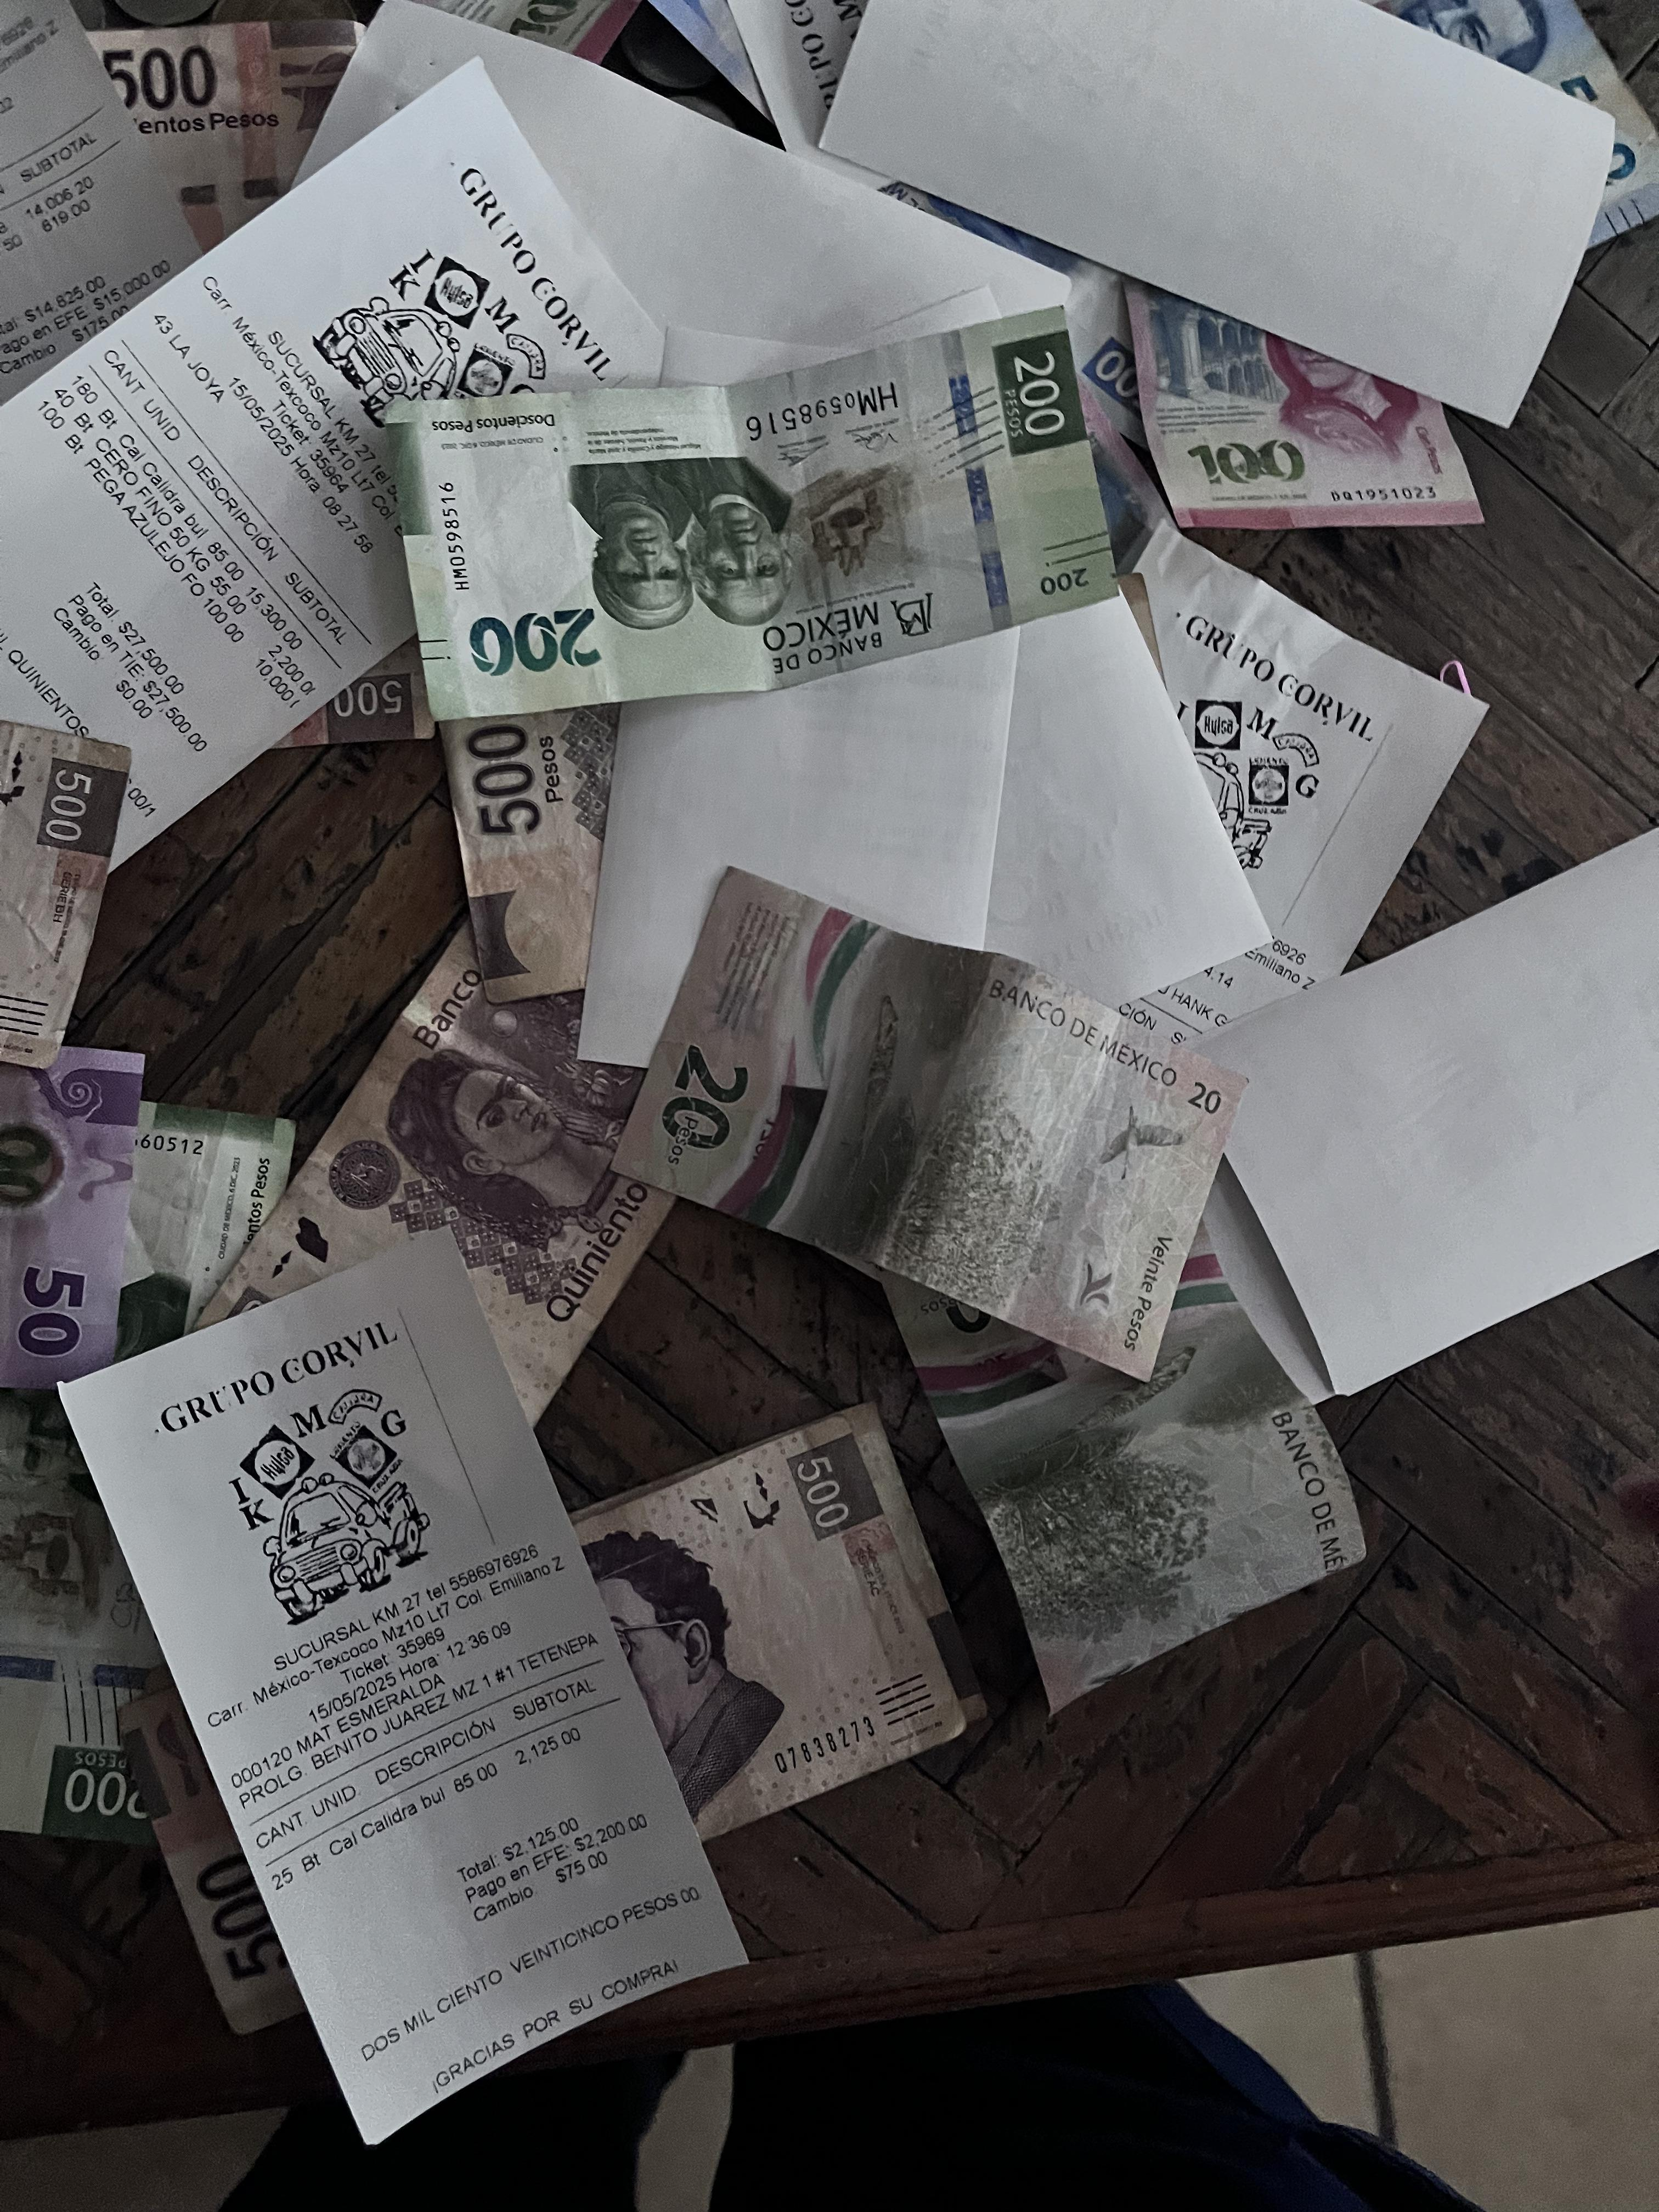100: (1060, 239, 1486, 563)
20: (606, 815, 1331, 1409), (857, 1183, 1391, 1761)
200: (340, 282, 1122, 730), (0, 1069, 301, 1890)
50: (0, 1040, 119, 1397)
500: (124, 1435, 1025, 2074), (206, 845, 802, 1451), (460, 655, 657, 1010), (87, 14, 390, 225), (0, 725, 148, 1094)
500 nuevo: (1249, 0, 1659, 273)
